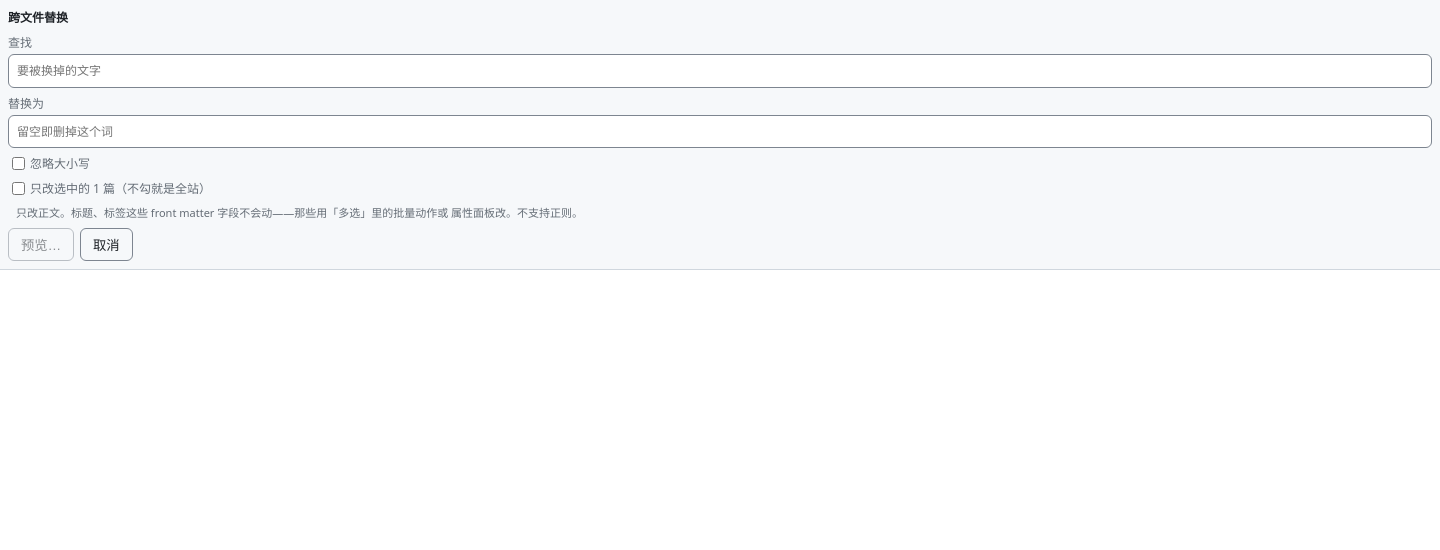
Test: ReplacePanel › 外部选中集合变了也作废：范围变了，命中清单当然不作数
Type "旧称呼" into the field labelled "查找".
click(720, 71); type("旧称呼")  # box [8,54,1432,88]
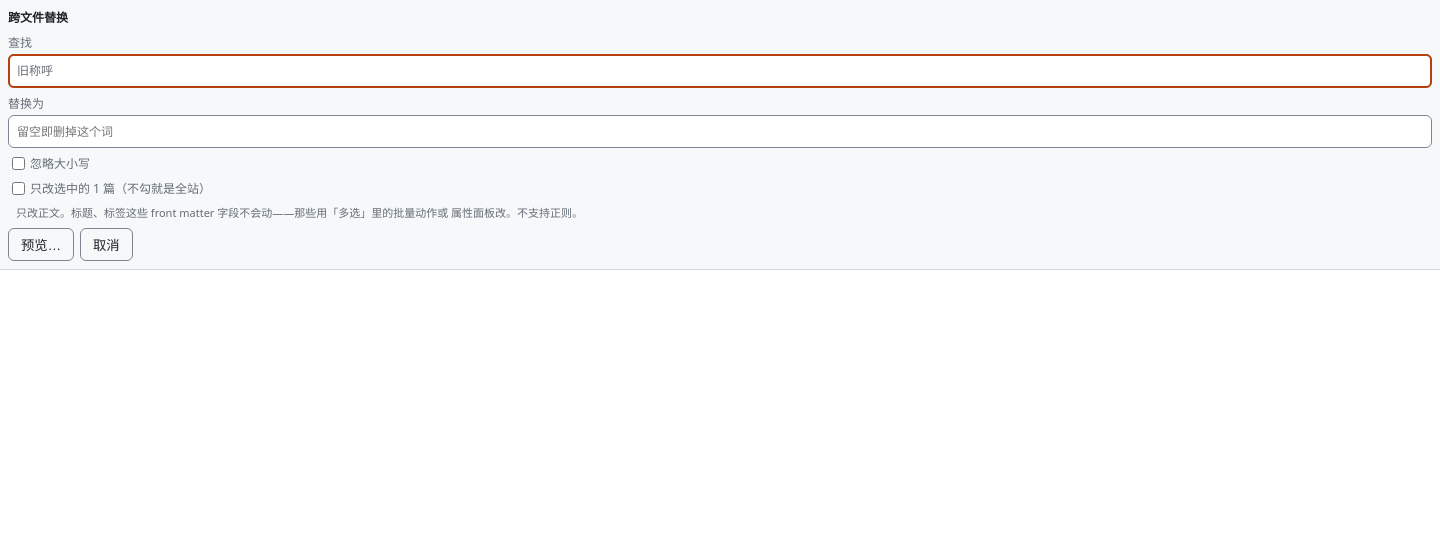
Submit the form, box [0,0,1439,270]
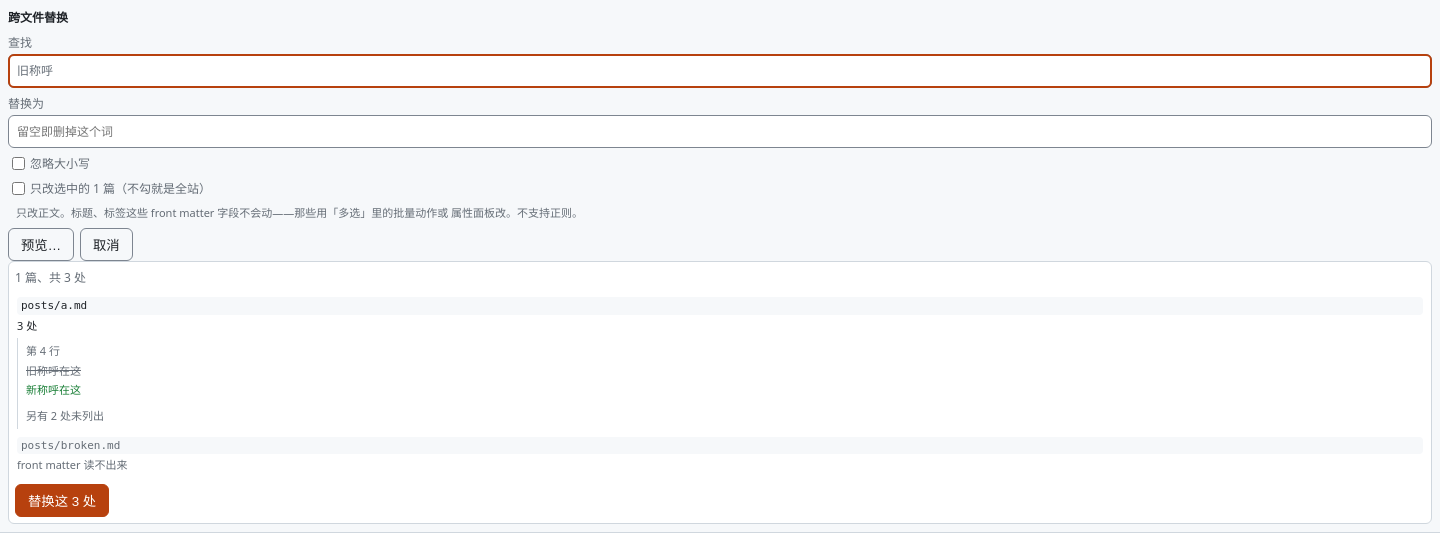
Result: the element that starts with "1 篇、共 3 处" is shown at [8,261,1432,524]
